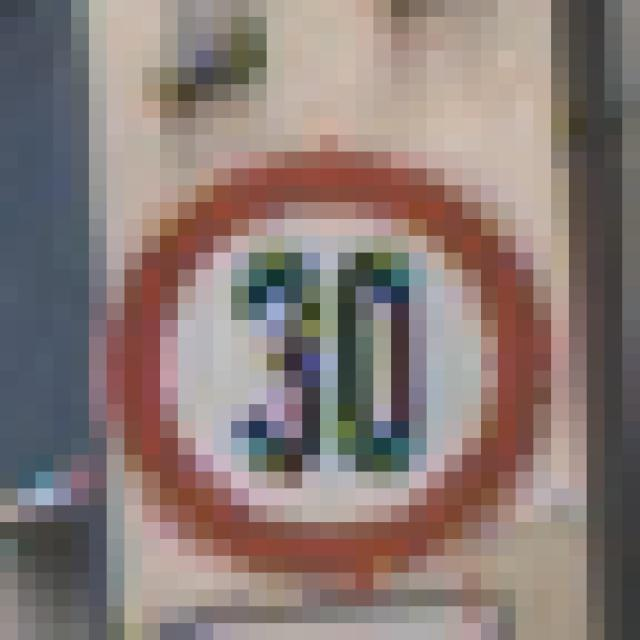Speed Limit -30-: (80, 92, 542, 530)
